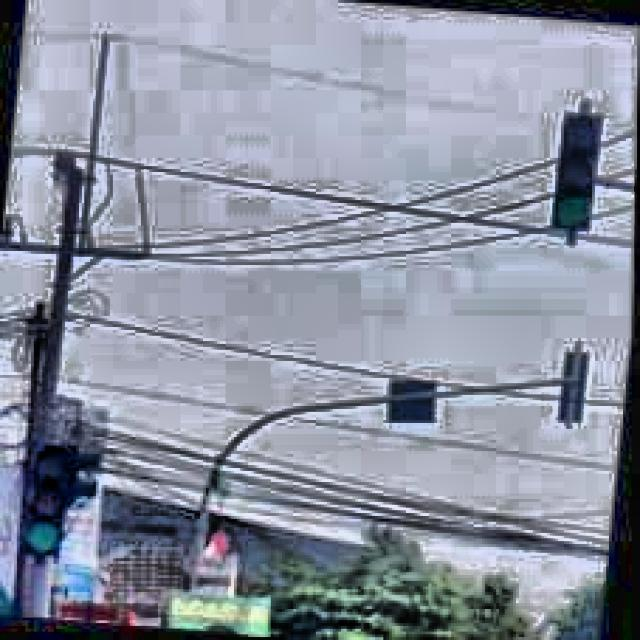green: (547, 111, 603, 232), (22, 446, 79, 558)
